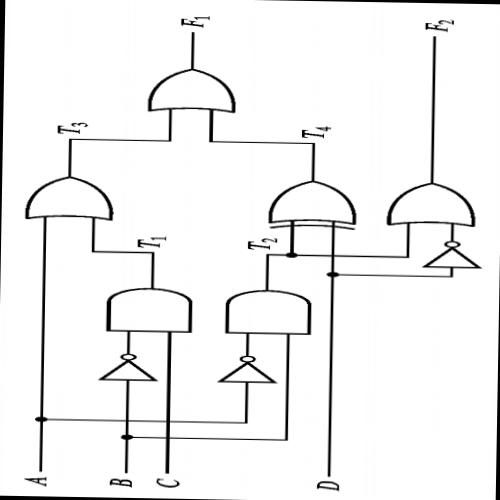and: (91, 281, 202, 342), (219, 284, 317, 342)
not: (208, 350, 280, 389), (415, 237, 490, 274), (94, 350, 162, 388)
or: (19, 173, 120, 226), (142, 65, 239, 119), (382, 178, 480, 230)
xor: (260, 176, 360, 233)
